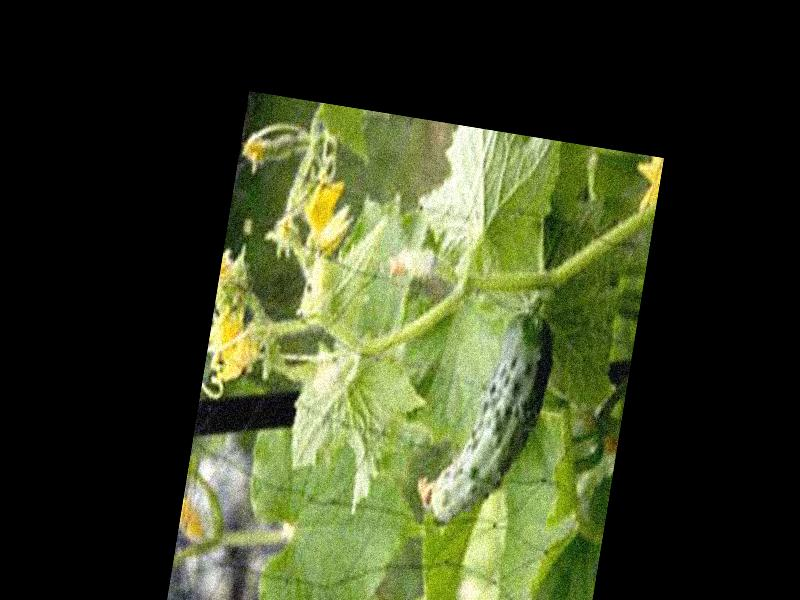Cucumber: (411, 295, 558, 537)
